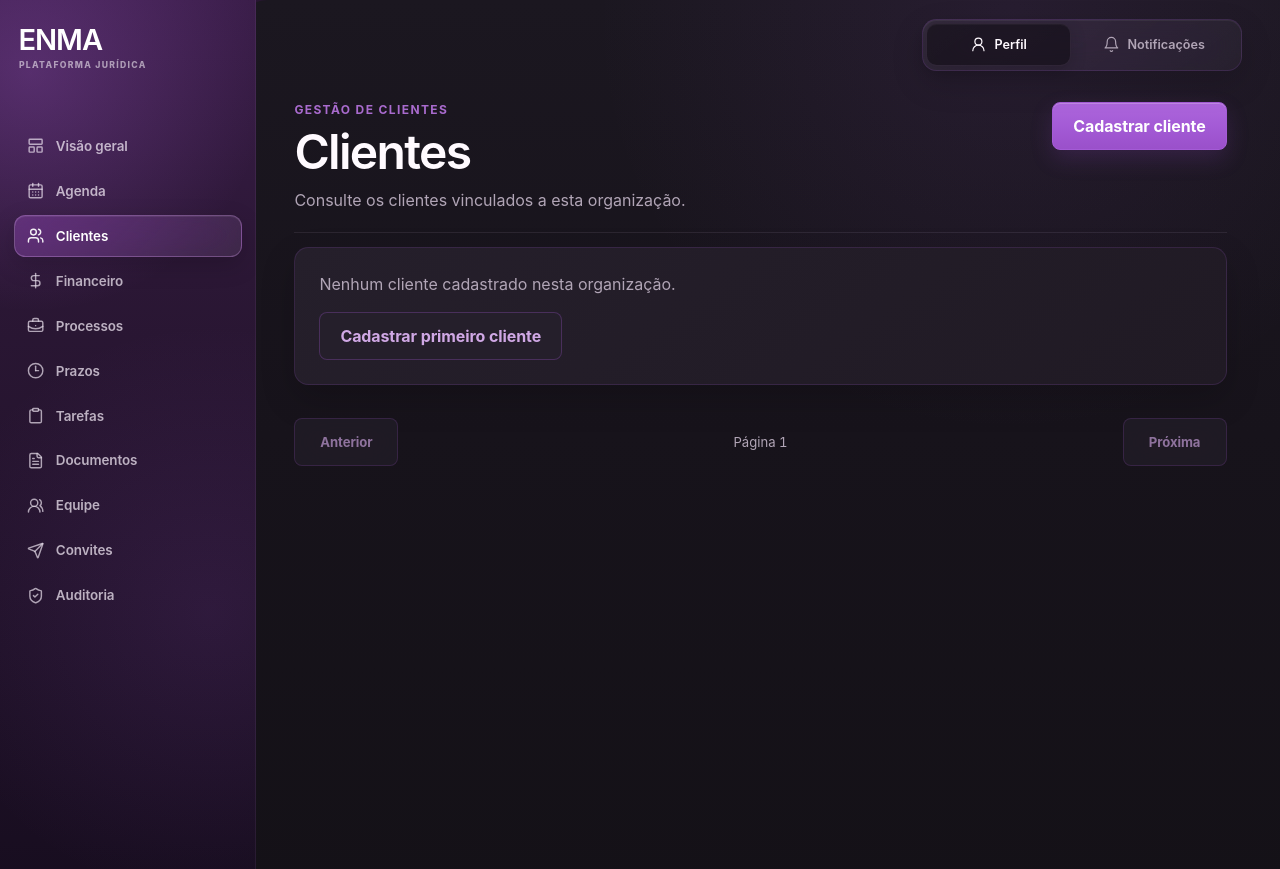
it: Clients D1 flow › ClientCreate_NetworkFailure_ShowsSafeRetryableErrorWithoutFakeClient
Expected: the text "Nenhum cliente cadastrado nesta organização." is shown, [319,274,676,294]
Step 1. Click the button "Cadastrar cliente" → {"x": 1139, "y": 126}, box [1052,102,1227,150]
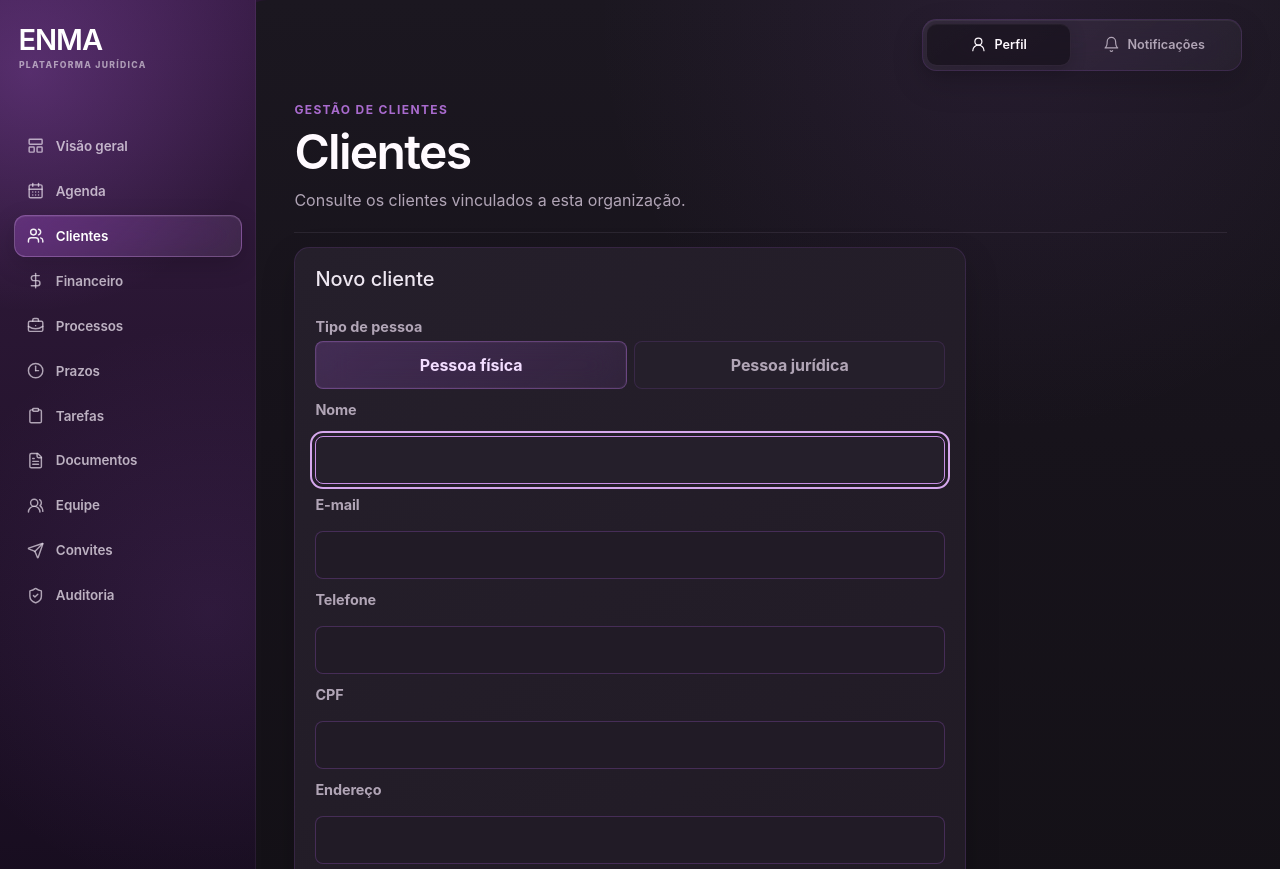
Step 2. Type "Cliente Incerto" into the field labelled "Nome" → {"x": 630, "y": 460}, box [315,436,945,484]
(page scrolled)
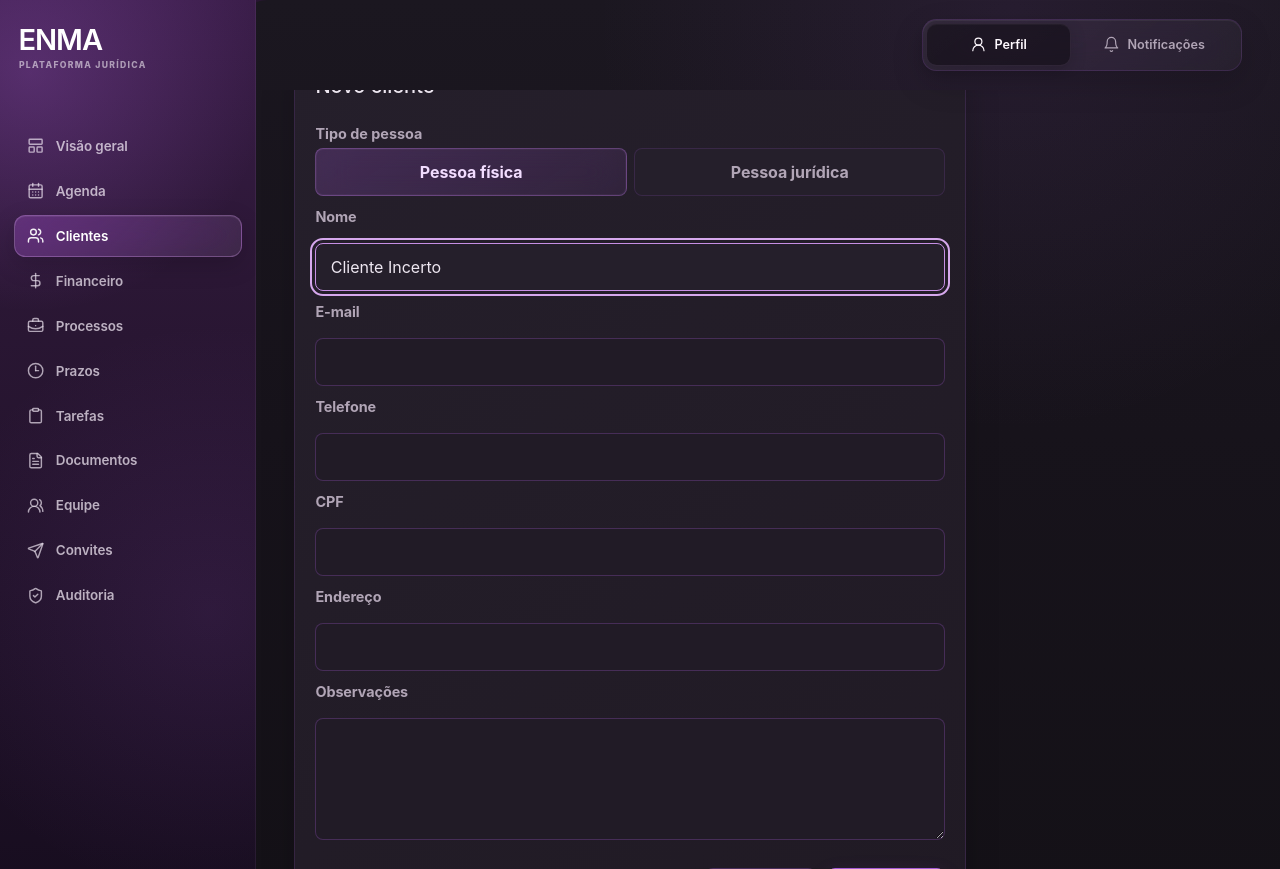
Step 3. Submit the form named "Cadastrar"
(page scrolled)
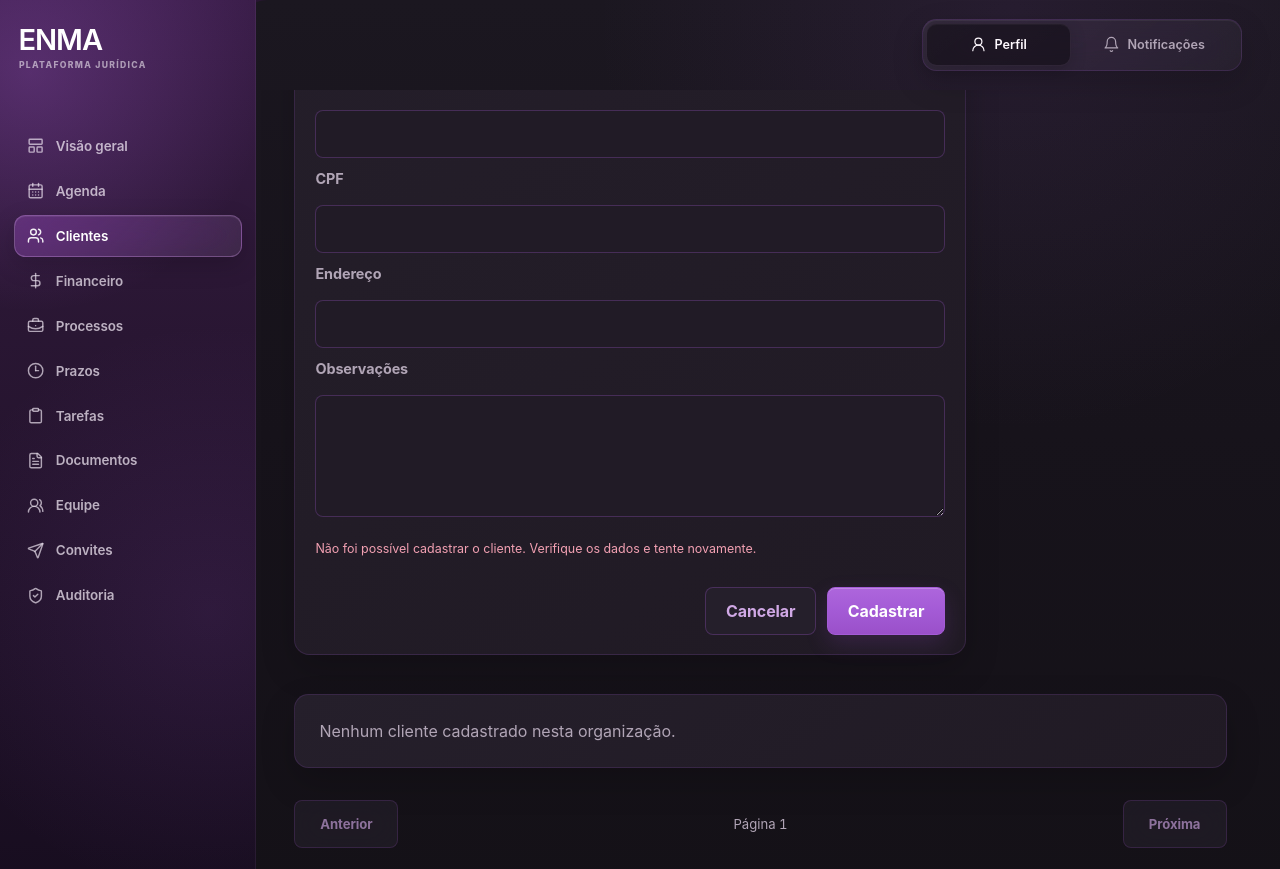
Expected: the message "Não foi possível cadastrar o cliente. Verifique os dados e tente novamente." does not show "private network detail", [315,540,756,559]
Now the button "Cadastrar" is enabled, box [827,587,945,635]
Now the message "Não foi possível cadastrar o cliente. Verifique os dados e tente novamente." is shown, box [315,540,756,559]
